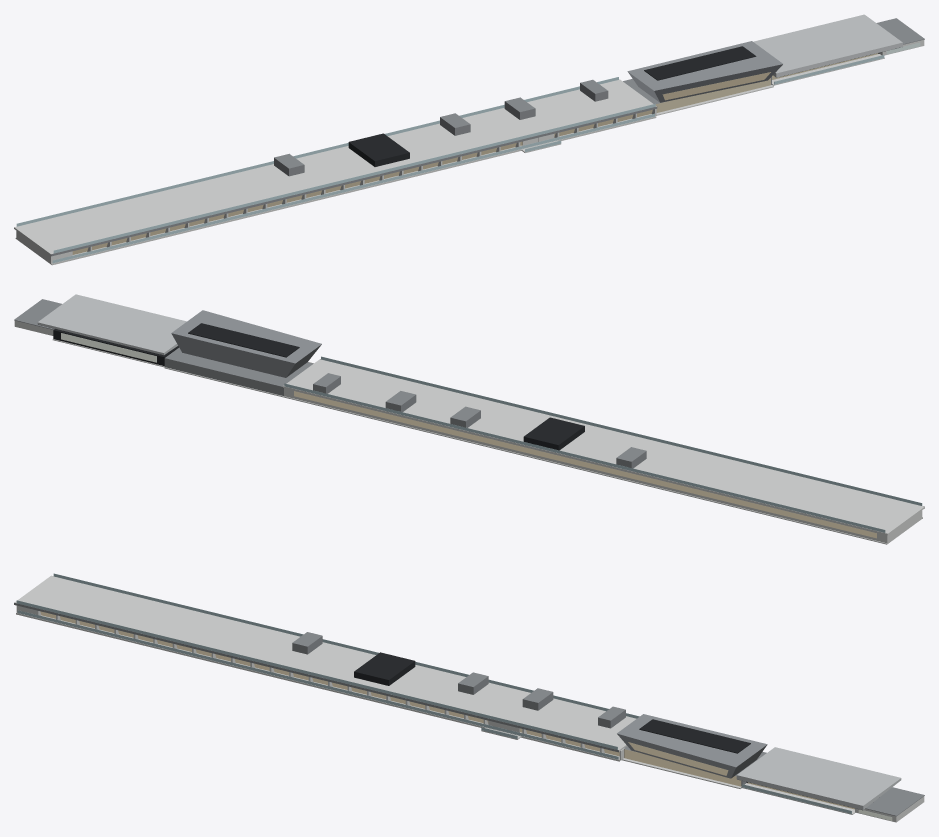
The model's file is rbr_pit_upper.glb.
3 views of the same model, one above another, from view 1: azimuth 30°, elevation 25°; view 2: azimuth 150°, elevation 25°; view 3: azimuth 330°, elevation 25° (orthographic).
Visible parts, largest first — view 1: red-bull-ring-pit-building; view 2: red-bull-ring-pit-building; view 3: red-bull-ring-pit-building.
Boxes of the visible parts, x1,y1,x2,y2 form: red-bull-ring-pit-building: [14, 14, 924, 265]; red-bull-ring-pit-building: [14, 294, 924, 544]; red-bull-ring-pit-building: [14, 573, 924, 822].
Size of the model in its own units: 339 by 10.55 by 28.2.
